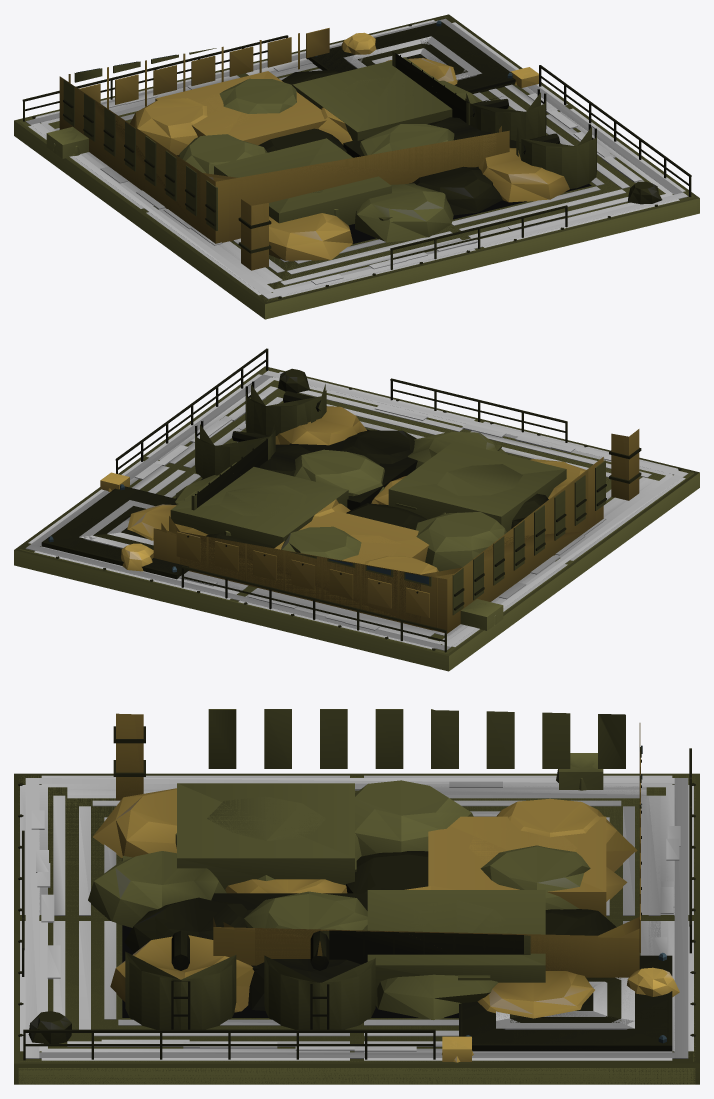
Rendered from meridian_construction_center_heavily_damaged.glb.
3 views of the same model, one above another, from view 1: azimuth 30°, elevation 25°; view 2: azimuth 150°, elevation 25°; view 3: azimuth 270°, elevation 25° (orthographic). The views are drawn at different scales.
Visible parts, largest first — view 1: body (×3); view 2: body (×3); view 3: body (×3).
Part boxes in pixels (x1=…): body (×3): x1=14, y1=14, x2=699, y2=319; body (×3): x1=14, y1=348, x2=699, y2=671; body (×3): x1=14, y1=709, x2=699, y2=1084.
Size of the model in its own units: 14.91 by 2.62 by 14.8.
